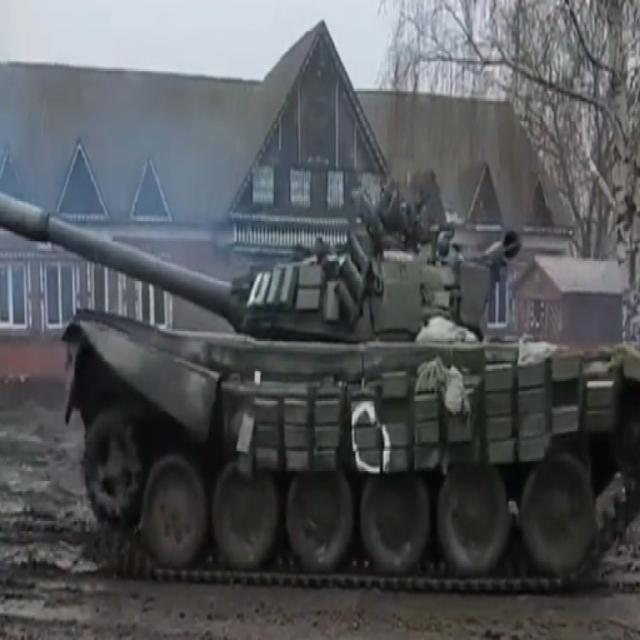TANK: (0, 180, 638, 591)
